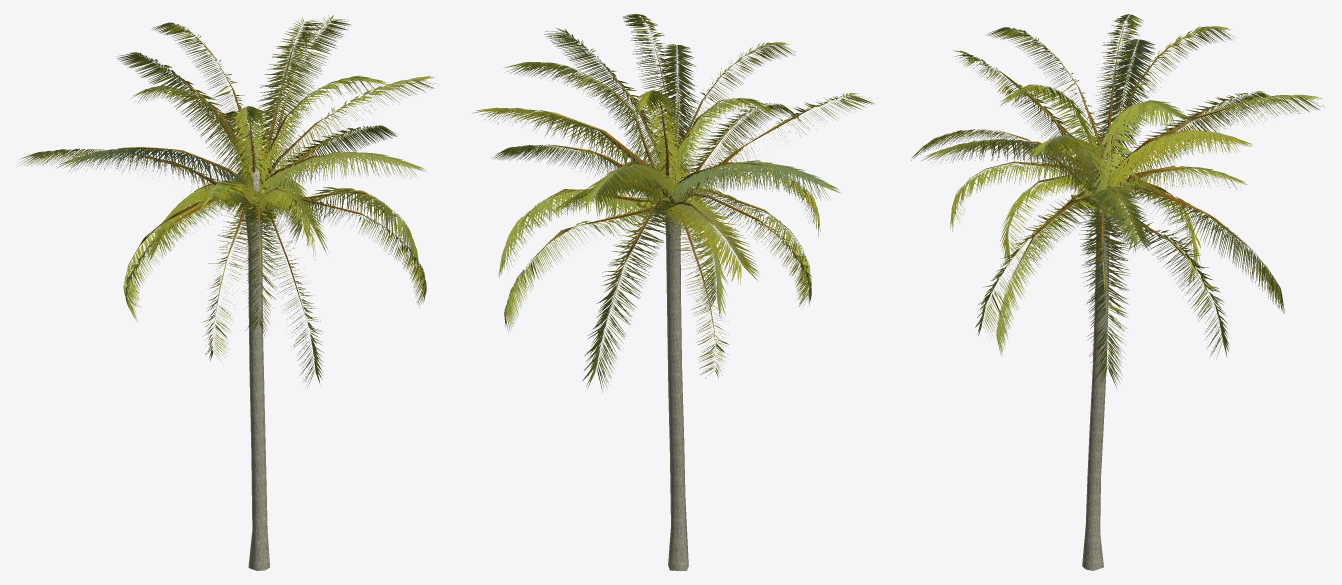
The model's file is coconutTree_20k.gltf.
The picture shows the model from 3 angles, left to right: view 1: azimuth 30°, elevation 25°; view 2: azimuth 150°, elevation 25°; view 3: azimuth 270°, elevation 25°; orthographic projection. The views are drawn at different scales.
Parts seen in each view (by area): view 1: coconutTree_20k; view 2: coconutTree_20k; view 3: coconutTree_20k.
Boxes of the visible parts, x1,y1,x2,y2 form: coconutTree_20k: [19, 14, 438, 570]; coconutTree_20k: [472, 14, 873, 570]; coconutTree_20k: [911, 14, 1324, 570].
Bounding box in the file's own units: 7.78 × 11.01 × 7.96.
Materials: 3 (3 with a texture image).
